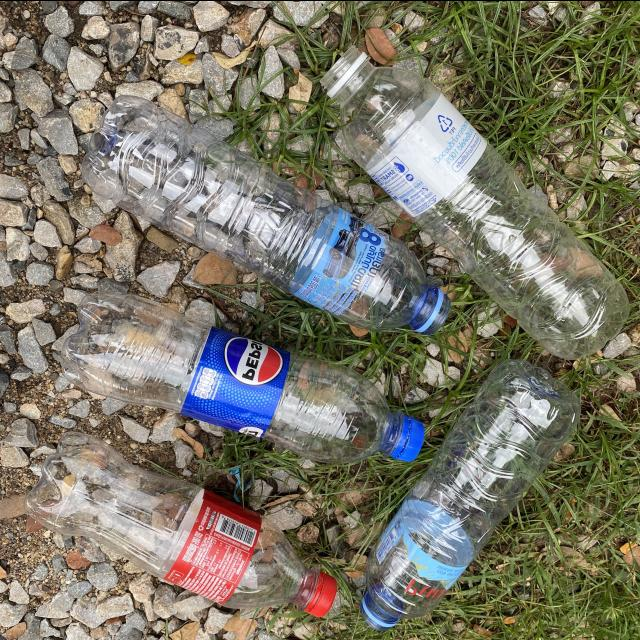plastik: (321, 46, 628, 358), (82, 95, 450, 334), (61, 292, 425, 462), (360, 359, 580, 630), (24, 431, 336, 616)
